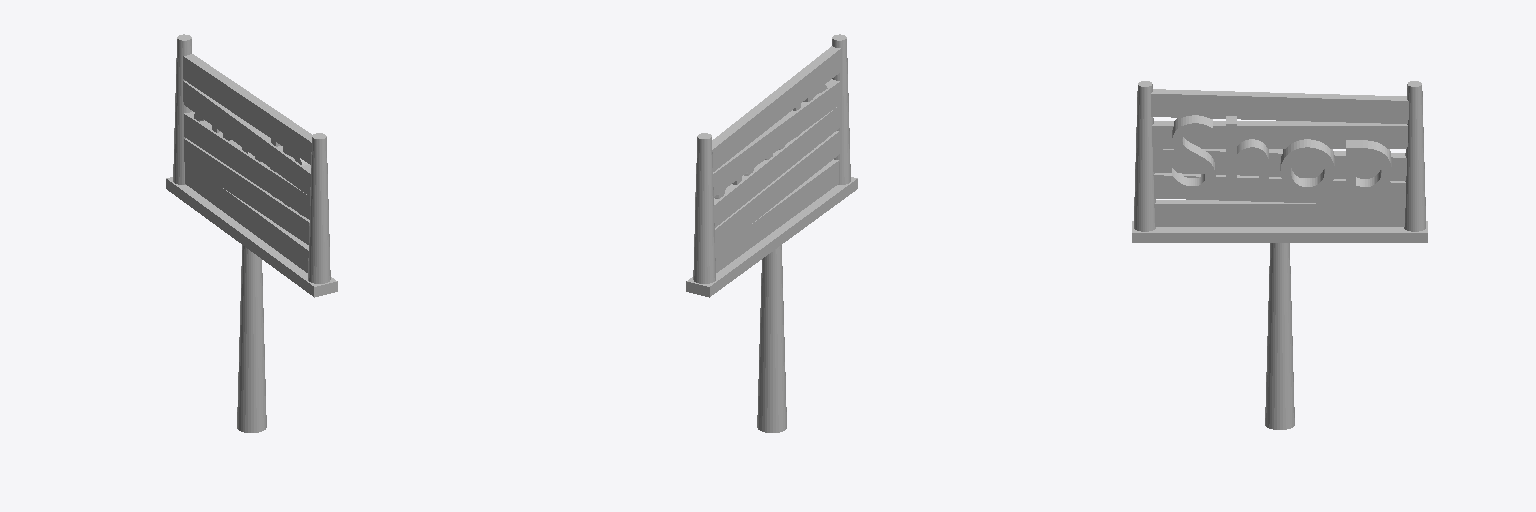
The model's file is Billboard.obj.
The picture shows the model from 3 angles: view 1: azimuth 30°, elevation 25°; view 2: azimuth 150°, elevation 25°; view 3: azimuth 270°, elevation 25°; orthographic projection.
Parts seen in each view (by area): view 1: Cylinder, Cube.005_Cube.006, Cube.004_Cube.005, Cube.003_Cube.004, Cube.002_Cube.003, Cube.001_Cube.002, Cube_Cube.001, Cylinder.001, Cylinder.002; view 2: Cylinder, Cube.005_Cube.006, Cube.004_Cube.005, Cube.003_Cube.004, Cube.002_Cube.003, Cube.001_Cube.002, Cube_Cube.001, Cylinder.002, Cylinder.001; view 3: Text, Cube.005_Cube.006, Cube.001_Cube.002, Cube.004_Cube.005, Cylinder, Cube_Cube.001, Cube.002_Cube.003, Cube.003_Cube.004, Cylinder.001, Cylinder.002.
Boxes of the visible parts, x1,y1,x2,y2 form: Cylinder: [237, 245, 266, 432]; Cube.005_Cube.006: [183, 54, 311, 164]; Cube.004_Cube.005: [183, 81, 310, 196]; Cube.003_Cube.004: [184, 111, 309, 219]; Cube.002_Cube.003: [184, 138, 309, 244]; Cube.001_Cube.002: [185, 163, 308, 272]; Cube_Cube.001: [166, 177, 337, 297]; Cylinder.001: [308, 133, 330, 283]; Cylinder.002: [173, 34, 191, 184]; Cylinder: [757, 245, 786, 432]; Cube.005_Cube.006: [712, 46, 840, 171]; Cube.004_Cube.005: [713, 79, 840, 196]; Cube.003_Cube.004: [714, 105, 839, 227]; Cube.002_Cube.003: [715, 131, 839, 251]; Cube.001_Cube.002: [715, 159, 839, 272]; Cube_Cube.001: [686, 177, 857, 297]; Cylinder.002: [693, 133, 715, 283]; Cylinder.001: [832, 34, 850, 184]; Text: [1172, 115, 1391, 217]; Cube.005_Cube.006: [1151, 89, 1408, 123]; Cube.001_Cube.002: [1154, 200, 1405, 226]; Cube.004_Cube.005: [1152, 121, 1407, 148]; Cylinder: [1265, 243, 1294, 429]; Cube_Cube.001: [1132, 221, 1427, 242]; Cube.002_Cube.003: [1153, 173, 1405, 205]; Cube.003_Cube.004: [1153, 149, 1406, 180]; Cylinder.001: [1134, 81, 1155, 231]; Cylinder.002: [1404, 81, 1425, 231].
Size of the model in its own units: 2.63 by 25.04 by 19.78.